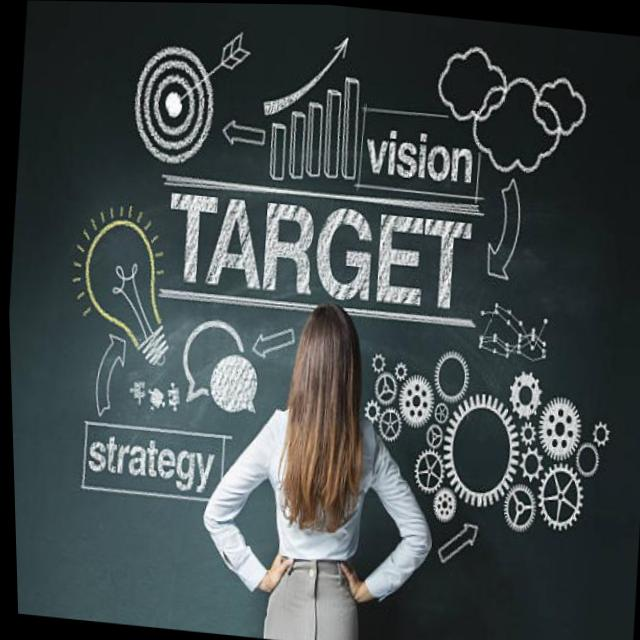no helmet: (268, 282, 377, 547)
